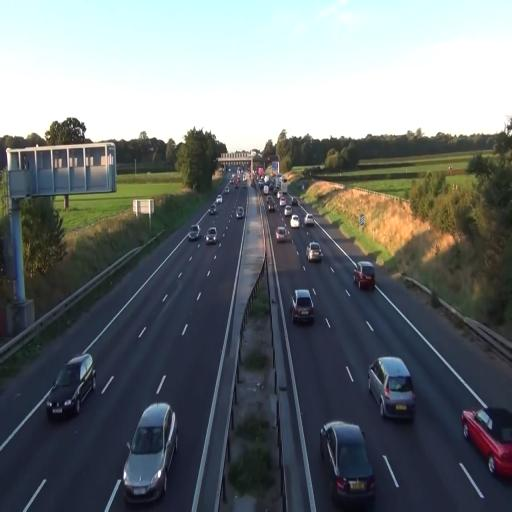vehicle: (122, 402, 178, 503), (122, 403, 177, 502), (320, 420, 376, 508), (320, 421, 374, 507), (460, 405, 512, 482), (45, 352, 96, 422), (461, 408, 511, 477), (367, 354, 416, 422), (46, 354, 95, 420), (368, 357, 414, 419), (290, 288, 315, 326), (290, 290, 313, 323), (353, 262, 376, 292), (353, 261, 374, 290), (306, 240, 323, 264), (306, 242, 321, 262), (188, 223, 201, 240), (206, 226, 218, 244), (276, 226, 288, 243), (234, 204, 246, 220), (205, 227, 216, 244), (275, 227, 287, 242), (188, 225, 199, 241), (290, 215, 299, 228), (304, 214, 313, 226), (236, 206, 244, 219), (280, 180, 286, 194), (284, 206, 292, 216), (208, 204, 215, 214), (268, 201, 274, 212), (266, 196, 274, 204), (291, 197, 298, 205), (215, 195, 221, 204), (258, 180, 264, 189), (279, 197, 285, 206), (224, 186, 230, 194), (263, 175, 269, 183), (276, 190, 281, 199), (263, 185, 268, 194), (268, 184, 273, 191), (242, 180, 246, 188), (272, 188, 277, 194), (234, 183, 238, 189), (230, 178, 233, 184)
